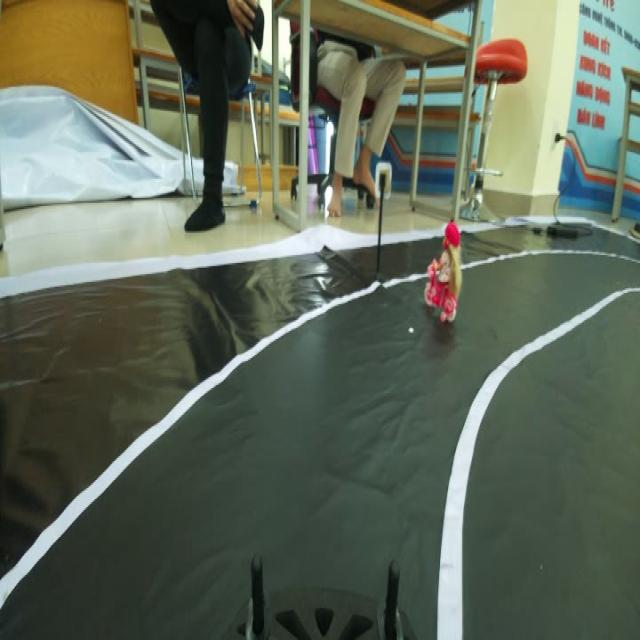pedestrian: (424, 216, 468, 335)
